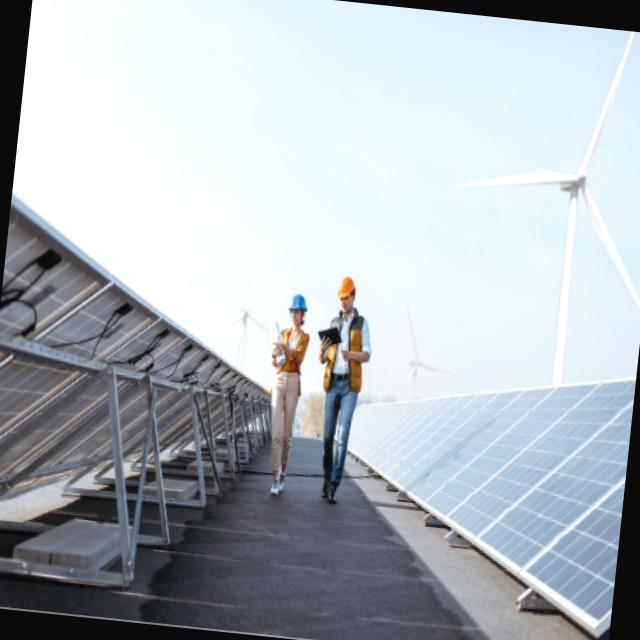helmet: (334, 272, 357, 305), (286, 288, 310, 318)
no-vest: (316, 310, 364, 396), (272, 326, 306, 372)
